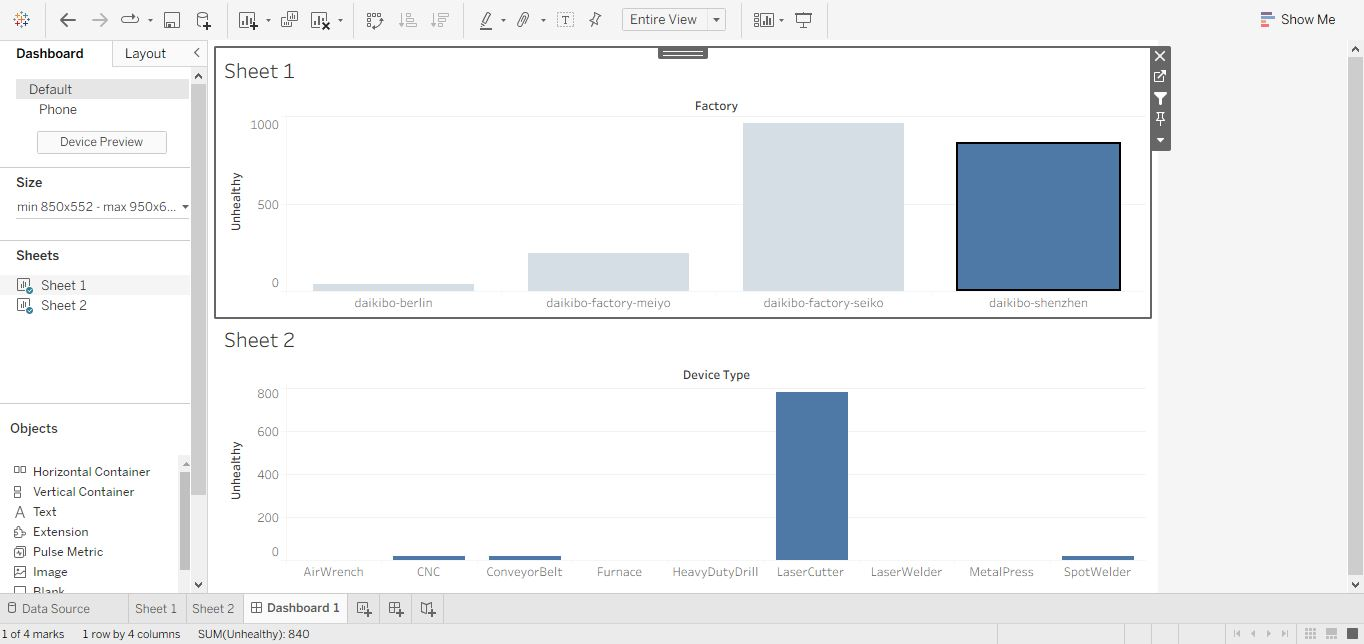

This screenshot's page, from the dashboard's own definition file:
{"tool":"tableau","page":{"name":"Dashboard 1","canvas":[1000,1000],"units":"permille","ordinal":0},"visuals":[{"type":"worksheet","title":"Sheet 1","mark":"Automatic","rows":["Calculation_1221882907532443648"],"cols":["factory"],"box":[8.4,14.5,983.2,485.5]},{"type":"worksheet","title":"Sheet 2","mark":"Automatic","rows":["Calculation_1221882907532443648"],"cols":["deviceType"],"box":[8.4,500,983.2,485.5]}]}

Visuals, with their boxes on the dashboard's canvas, which has no fixed pixel size, in thousandths of its width and height (x1, y1, x2, y2). These are canvas units, not pixel positions in the 1364x644 screenshot, which may show the page scaled, cropped or inside an application window:
"Sheet 1" worksheet: Rect(8, 14, 992, 500)
"Sheet 2" worksheet: Rect(8, 500, 992, 986)
